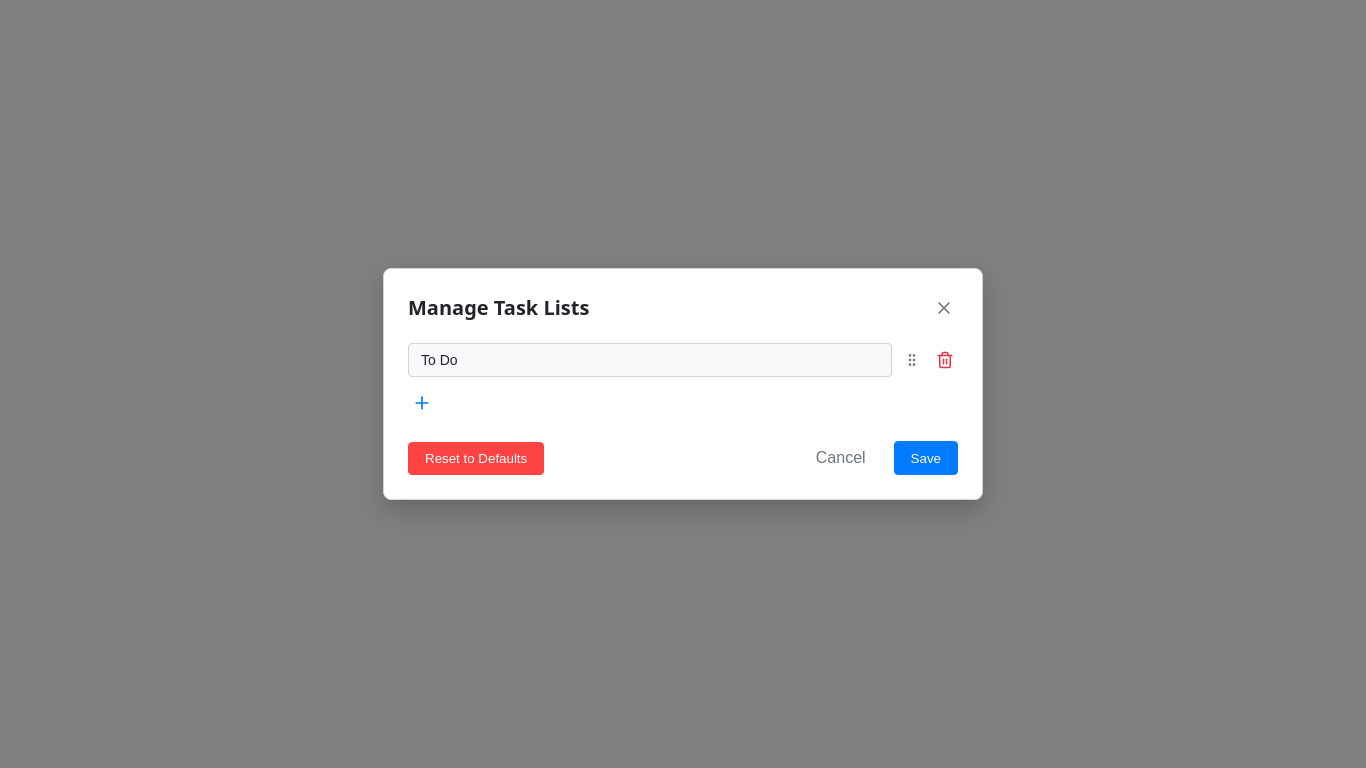
Test: ManageTaskListsModal › disables save button when task list names are blank
This screenshot has width=1366, height=768.
Step 1. Clear the field with placeholder "Task list name" → [650, 360], box [408, 343, 892, 377]
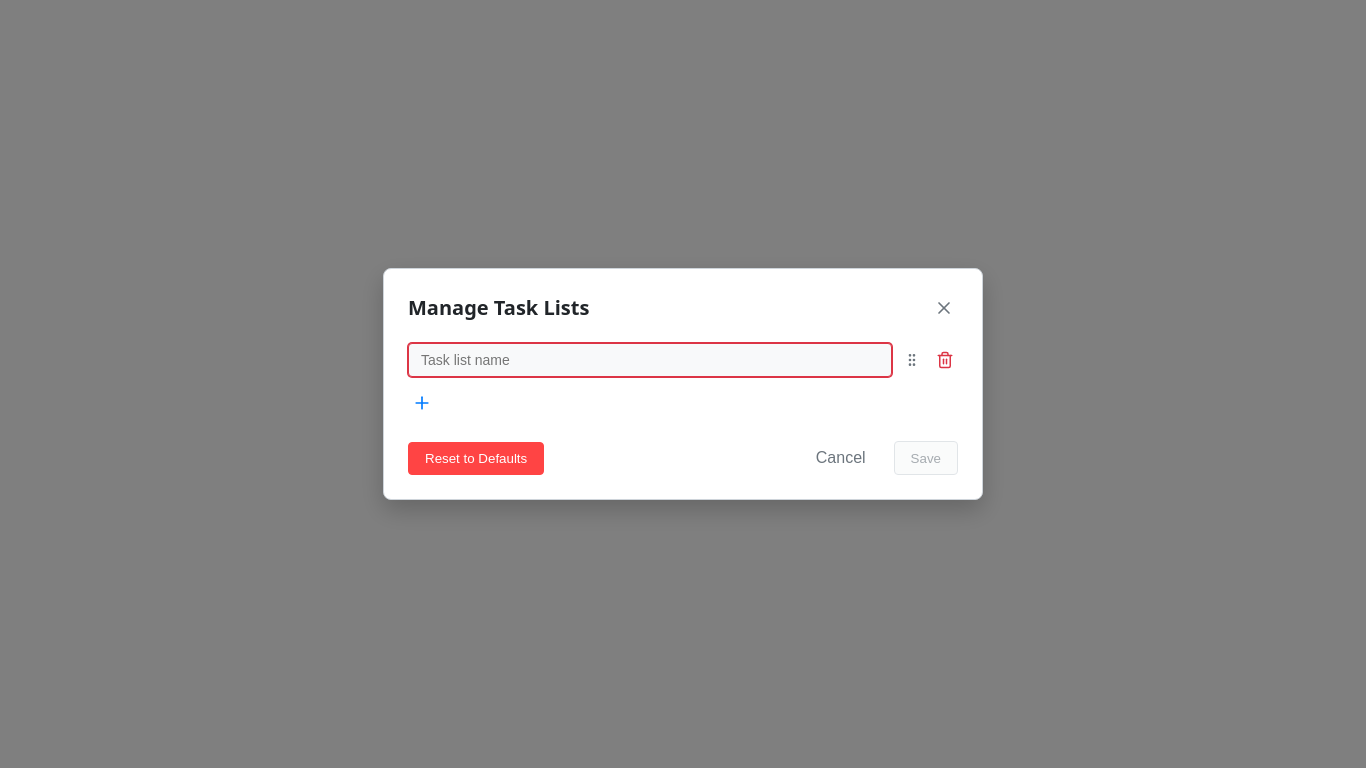
Check: the button "Save" is disabled, box [894, 441, 958, 475]
